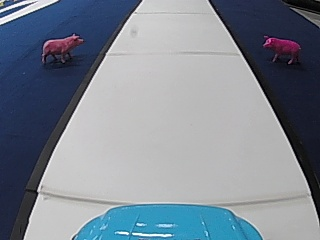pig: (39, 31, 84, 65), (260, 32, 301, 64)
